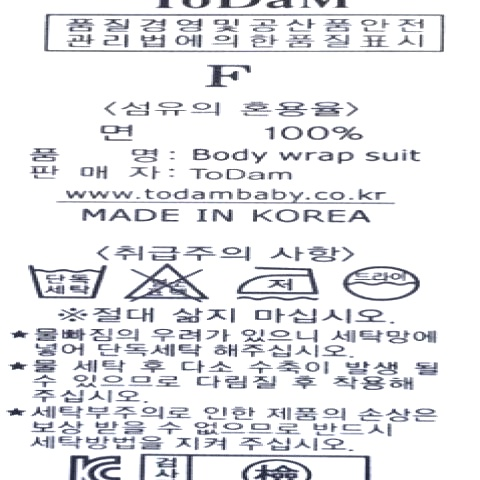dry_clean: (340, 263, 425, 303)
hand_wash: (27, 260, 108, 302)
iron_low: (240, 264, 323, 303)
non_chlorine_bleach: (123, 260, 213, 306)
